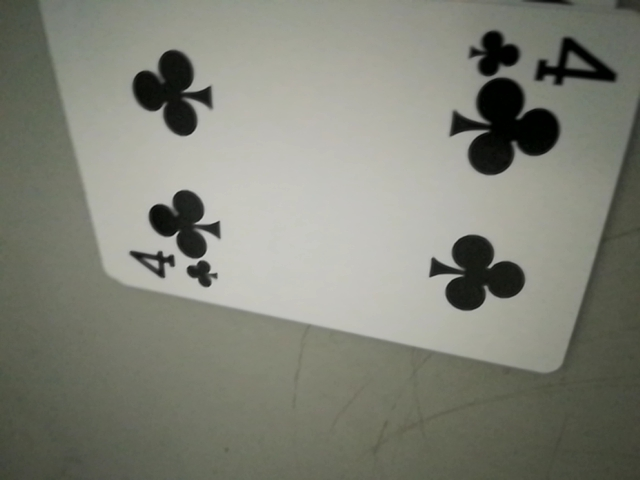mh 4: (465, 14, 620, 88), (117, 244, 224, 292)
